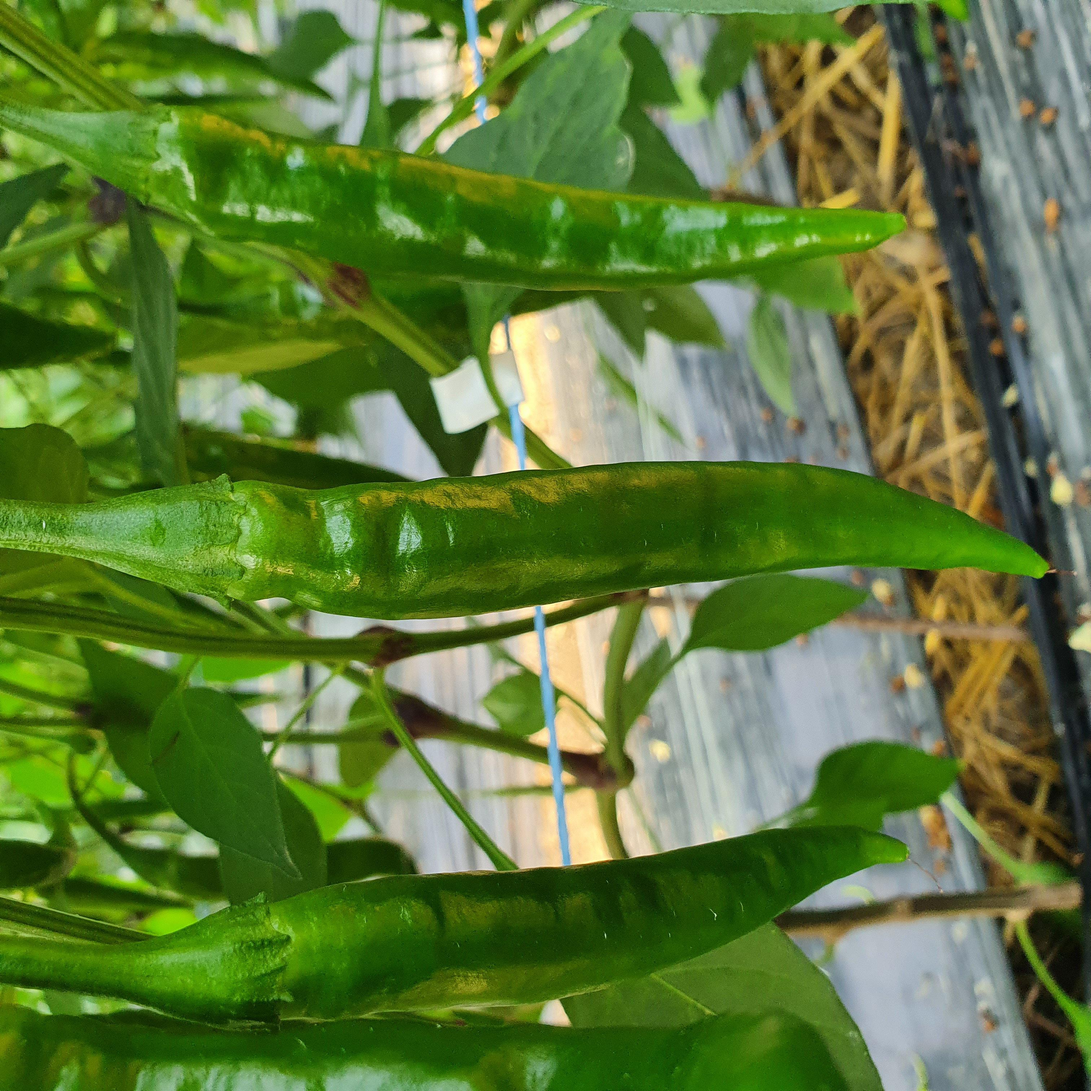Buah Cabai Sehat: (2, 455, 1056, 621), (101, 96, 915, 305), (146, 825, 915, 1021)
